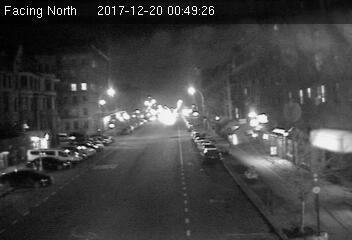car: (200, 148, 222, 165)
